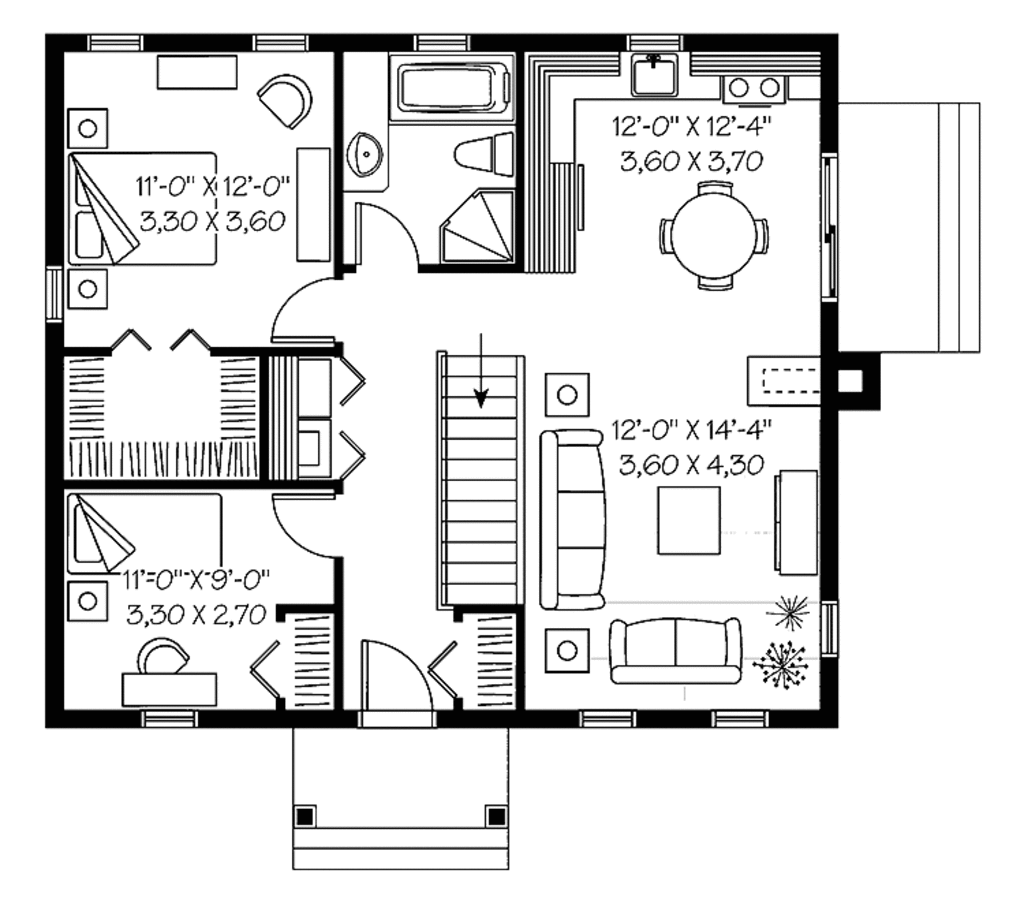bed: (65, 146, 229, 275), (61, 491, 223, 578)
door: (358, 632, 441, 729), (263, 268, 343, 343), (265, 493, 341, 567), (351, 200, 420, 267)
large_sink: (438, 125, 529, 178)
large_sofa: (538, 421, 618, 615), (606, 611, 749, 687)
round_table: (652, 182, 781, 301)
small_sink: (345, 97, 390, 187), (622, 50, 677, 103)
stairs: (436, 339, 530, 608)
tub: (380, 51, 518, 125)
window: (818, 149, 837, 299), (136, 710, 208, 733), (251, 33, 312, 56), (90, 29, 143, 50), (586, 711, 640, 731), (711, 711, 773, 728), (629, 32, 680, 49), (47, 264, 62, 321), (418, 35, 475, 49)
